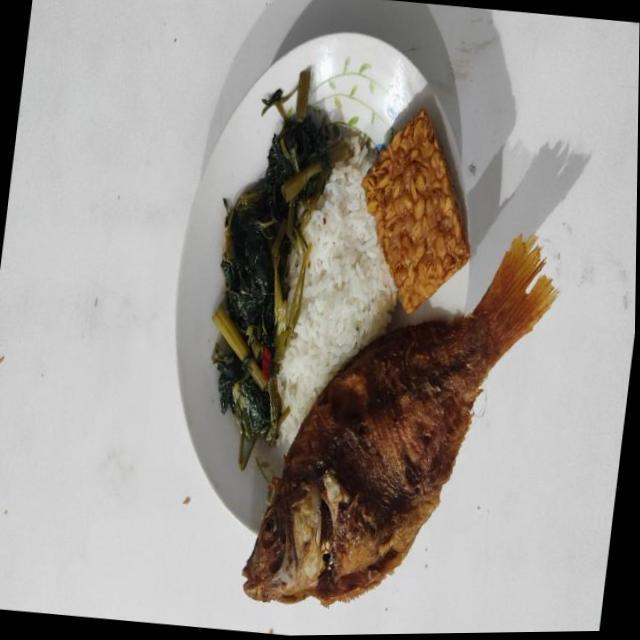ikan_mujair: (242, 234, 557, 603)
nasi_putih: (277, 135, 397, 446)
tempe_goreng: (361, 109, 470, 314)
tumis_kangkung: (212, 68, 352, 470)
